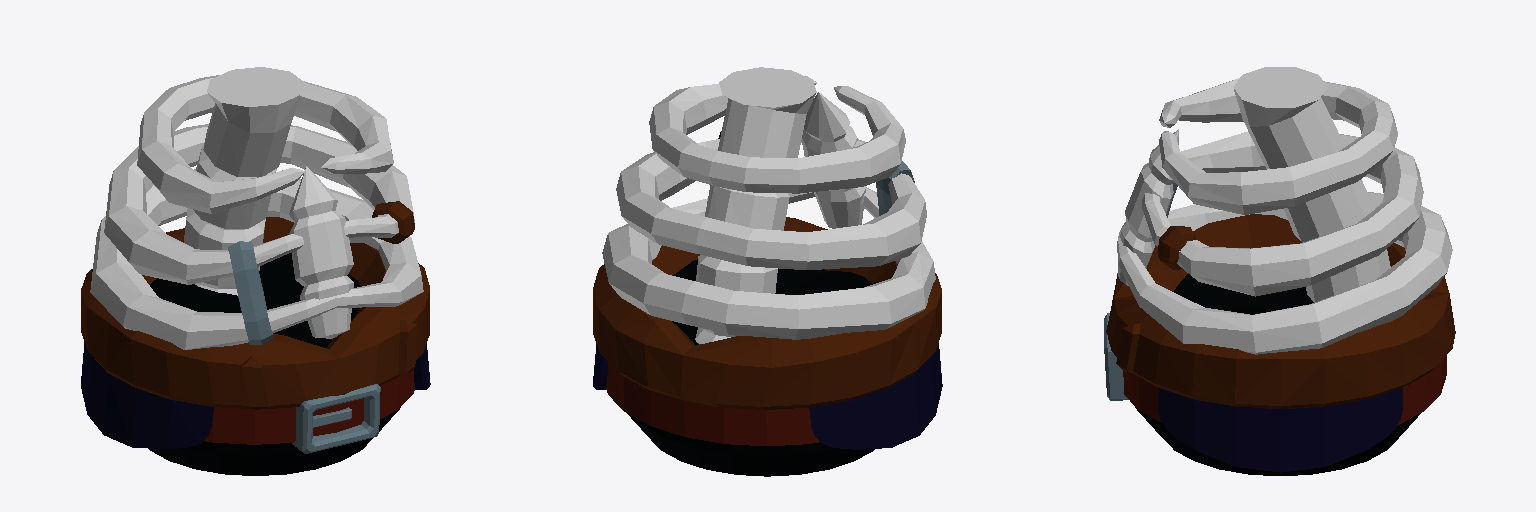
Rendered from character_skeletonKing_body.obj.
3 views of the same model, side by side, from view 1: azimuth 30°, elevation 25°; view 2: azimuth 150°, elevation 25°; view 3: azimuth 270°, elevation 25° (orthographic).
Parts seen in each view (by area): view 1: character_skeletonKing_body_Cube.8123; view 2: character_skeletonKing_body_Cube.8123; view 3: character_skeletonKing_body_Cube.8123.
Part boxes in pixels (left/top/right/bottom): character_skeletonKing_body_Cube.8123: left=81, top=67, right=430, bottom=475; character_skeletonKing_body_Cube.8123: left=593, top=67, right=942, bottom=476; character_skeletonKing_body_Cube.8123: left=1104, top=67, right=1455, bottom=475.
Size of the model in its own units: 0.7085 by 0.7522 by 0.71.